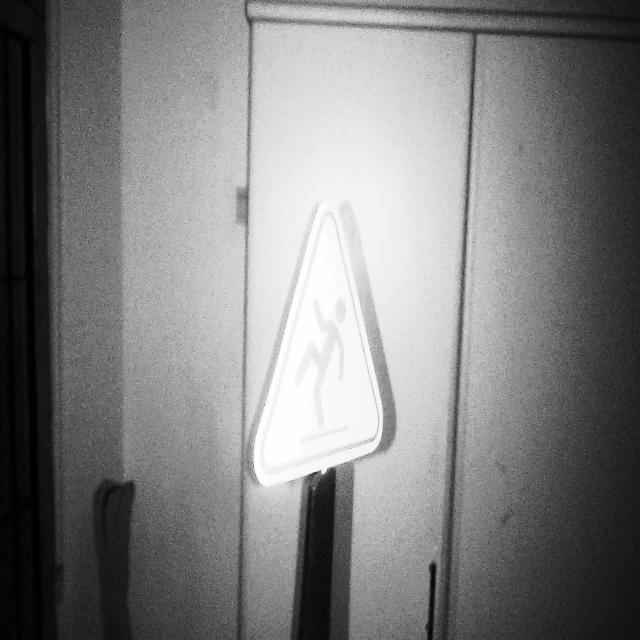Sign: (253, 197, 385, 489)
